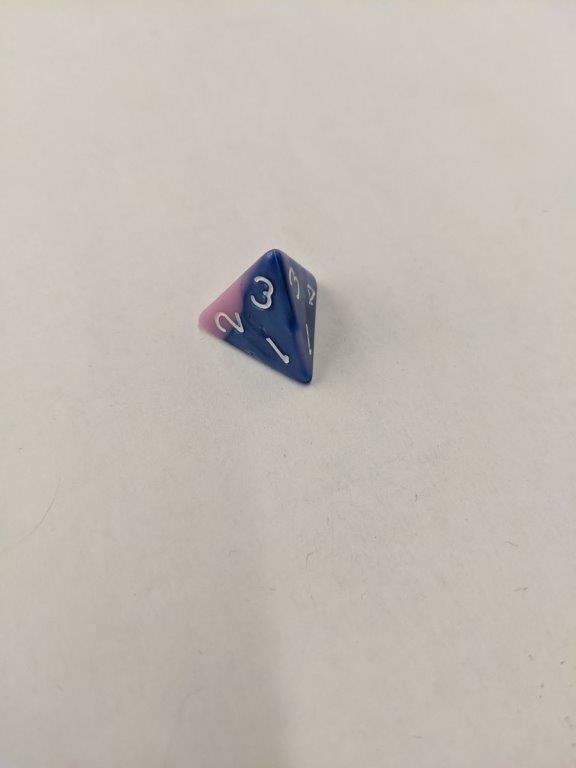d4-3: (197, 248, 325, 387)
